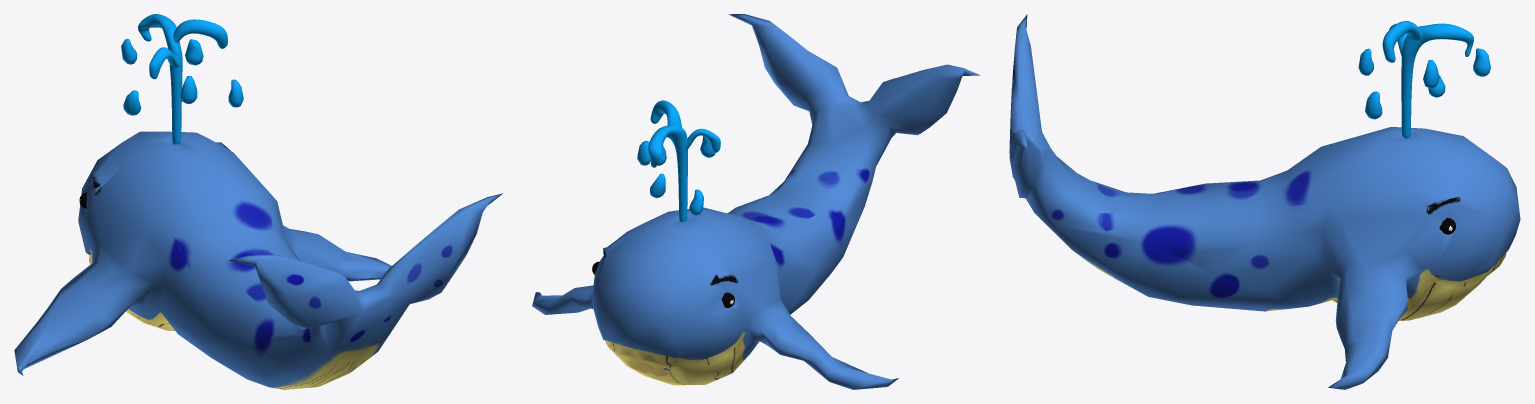
The model's file is cartoon_whale.fbx.
3 renders of one model, left to right at view 1: azimuth 30°, elevation 25°; view 2: azimuth 150°, elevation 25°; view 3: azimuth 270°, elevation 25°, orthographic. The views are drawn at different scales.
Visible parts, largest first — view 1: Whale, Cylinder, Sphere.001; view 2: Whale, Cylinder, Sphere.001; view 3: Whale, Cylinder, Sphere.001.
Boxes of the visible parts, box(x1,y1,x2,y2) form: Whale: box(14, 131, 502, 389); Cylinder: box(138, 14, 227, 144); Sphere.001: box(121, 38, 243, 115); Whale: box(532, 14, 979, 389); Cylinder: box(648, 100, 720, 221); Sphere.001: box(637, 136, 715, 215); Whale: box(1009, 14, 1520, 389); Cylinder: box(1382, 21, 1473, 138); Sphere.001: box(1358, 48, 1490, 119).
Size of the model in its own units: 437 by 314 by 489.
4 materials, 1 textured.
